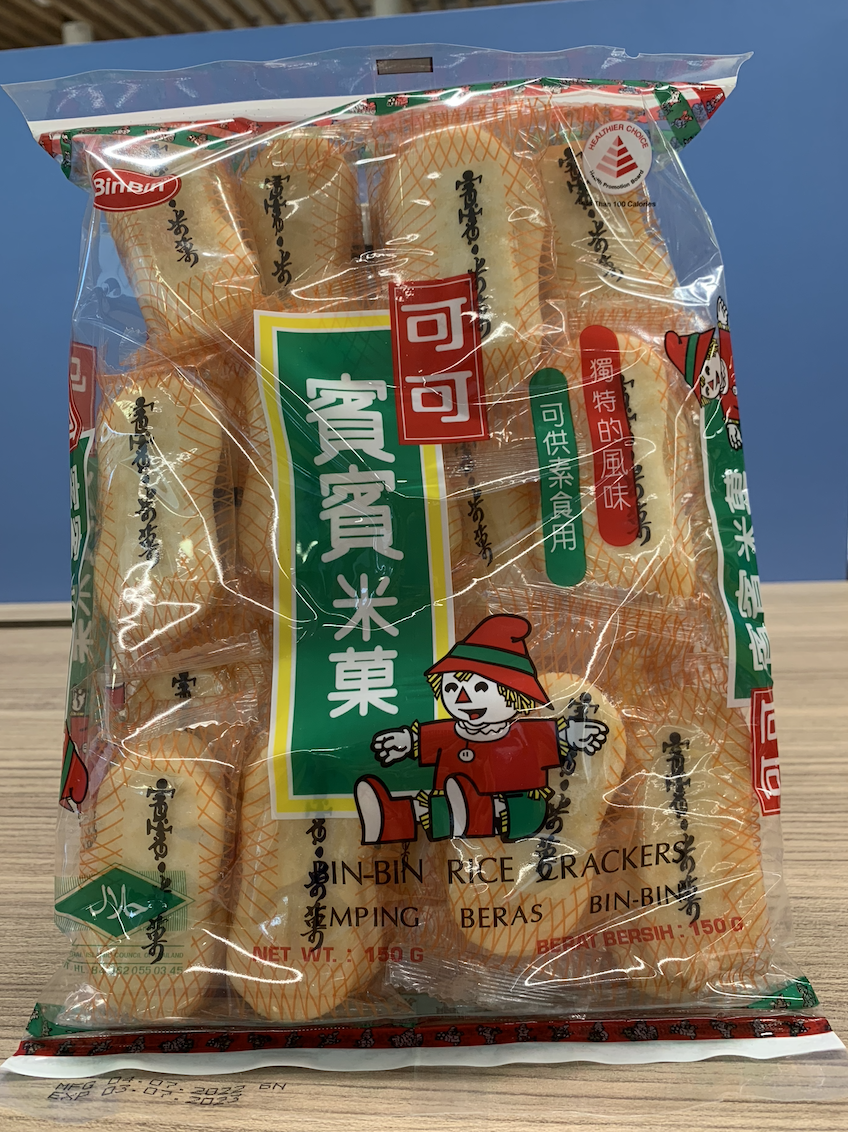crackers_150g: (82, 106, 764, 1011)
